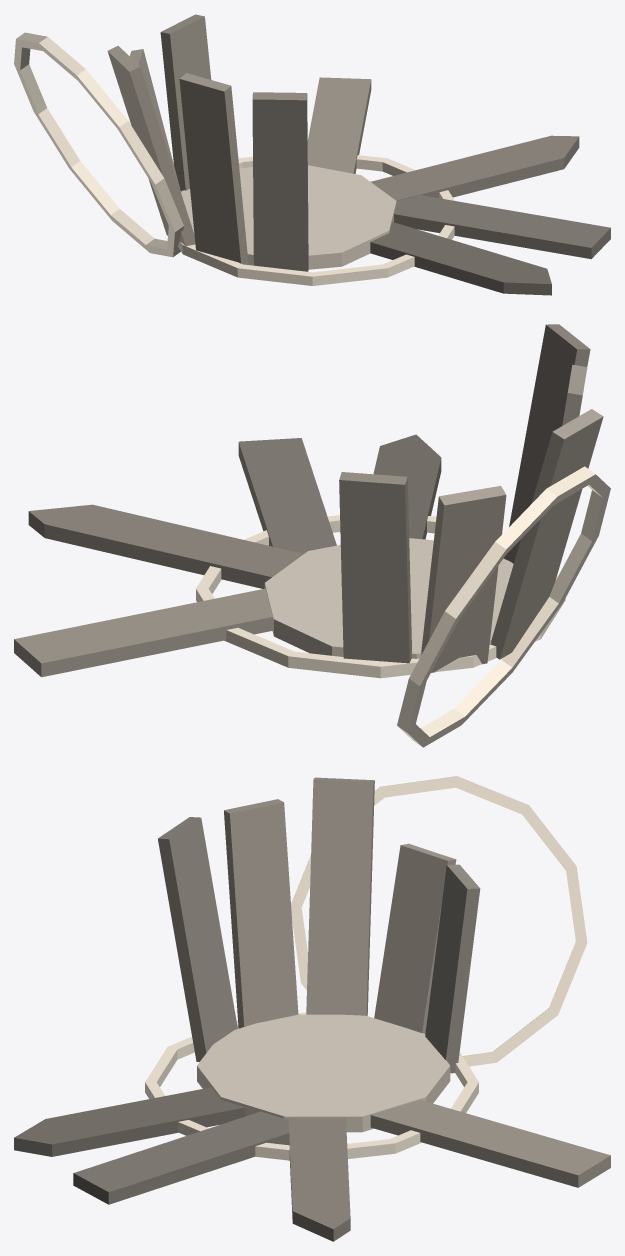
File: SM_VKI_Overlay_Debris_Barrel.fbx
3 views of the same model, one above another, from view 1: azimuth 30°, elevation 25°; view 2: azimuth 150°, elevation 25°; view 3: azimuth 270°, elevation 25° (orthographic). The views are drawn at different scales.
Parts seen in each view (by area): view 1: SM_VKI_Overlay_Debris_Barrel.001; view 2: SM_VKI_Overlay_Debris_Barrel.001; view 3: SM_VKI_Overlay_Debris_Barrel.001.
Part boxes in pixels (box(x1,y1,x2,y2)): SM_VKI_Overlay_Debris_Barrel.001: box(14, 14, 610, 295); SM_VKI_Overlay_Debris_Barrel.001: box(14, 324, 610, 747); SM_VKI_Overlay_Debris_Barrel.001: box(14, 776, 610, 1241).
Bounding box in the file's own units: 1.08 × 0.5027 × 1.04.
